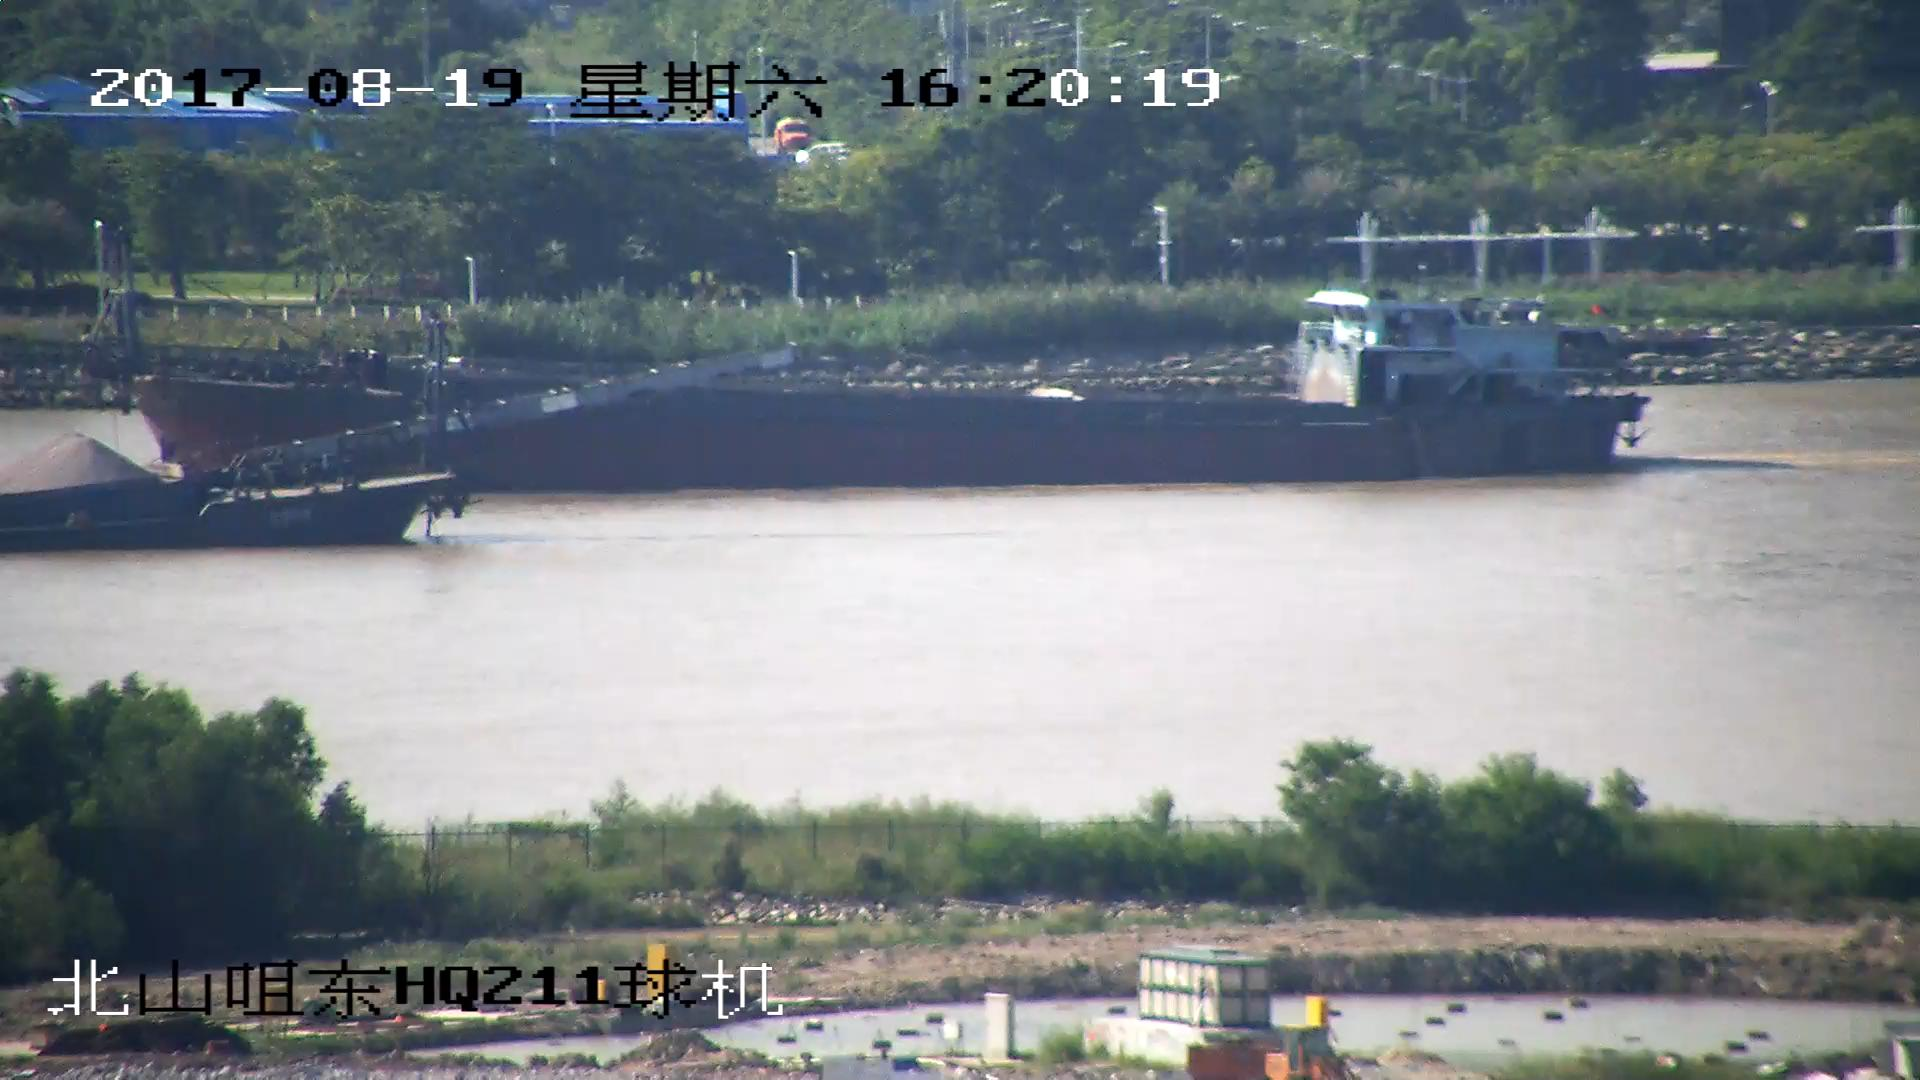bulk cargo carrier: (22, 226, 1652, 482)
ore carrier: (1, 337, 788, 551)
